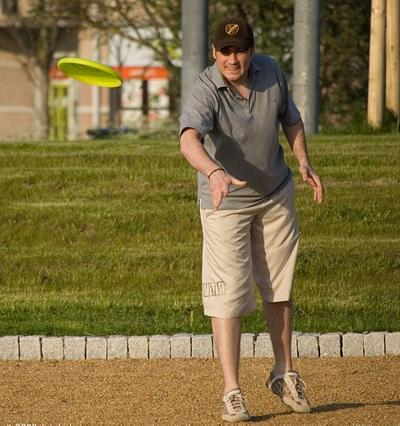person: (179, 15, 325, 422)
